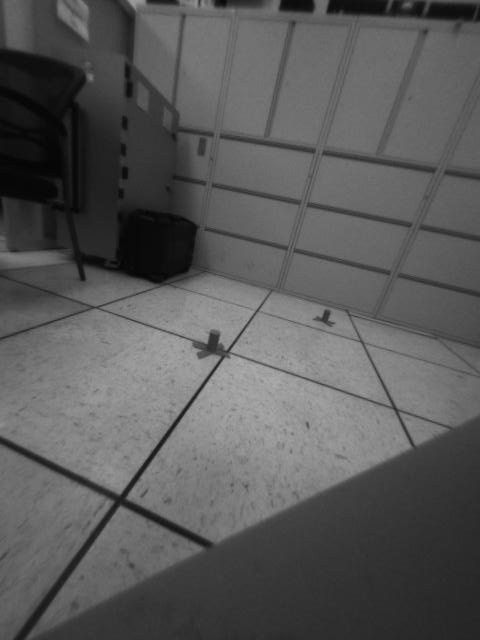X: (187, 327, 228, 361), (311, 306, 337, 328)
